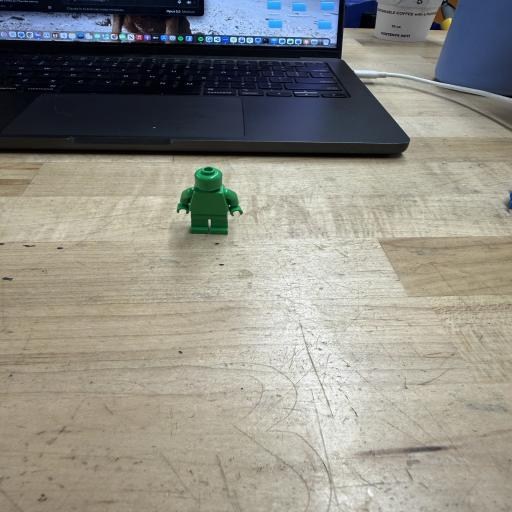green-minifig: (178, 167, 243, 235)
